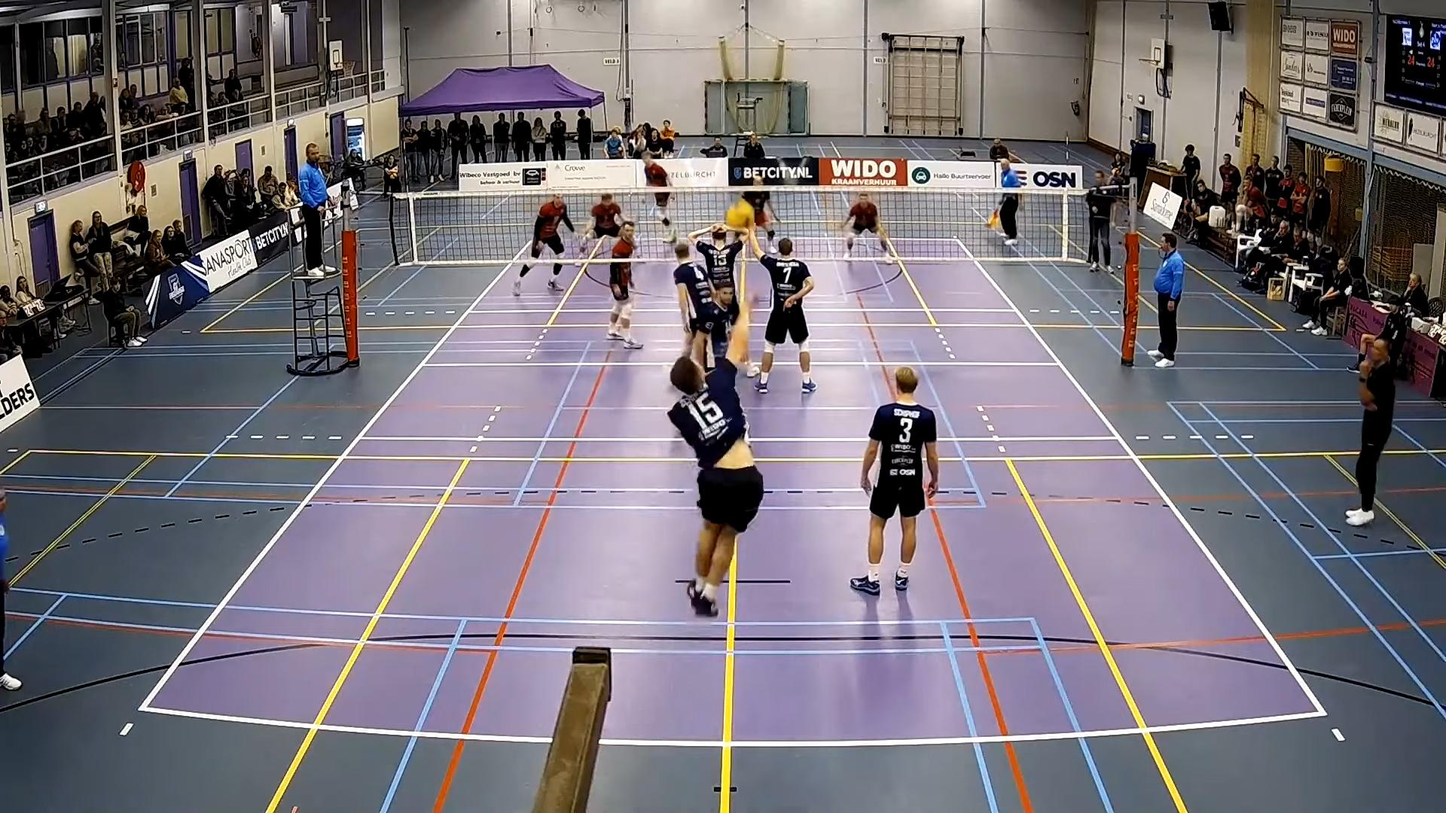Player: (850, 367, 938, 595), (755, 238, 816, 393), (606, 221, 642, 349), (530, 193, 575, 290), (673, 243, 712, 353), (688, 224, 744, 291), (690, 286, 734, 370), (844, 192, 896, 258), (740, 176, 777, 249), (642, 154, 670, 222), (584, 193, 622, 241)
Serve: (650, 285, 762, 622)
ball: (722, 204, 757, 230)
